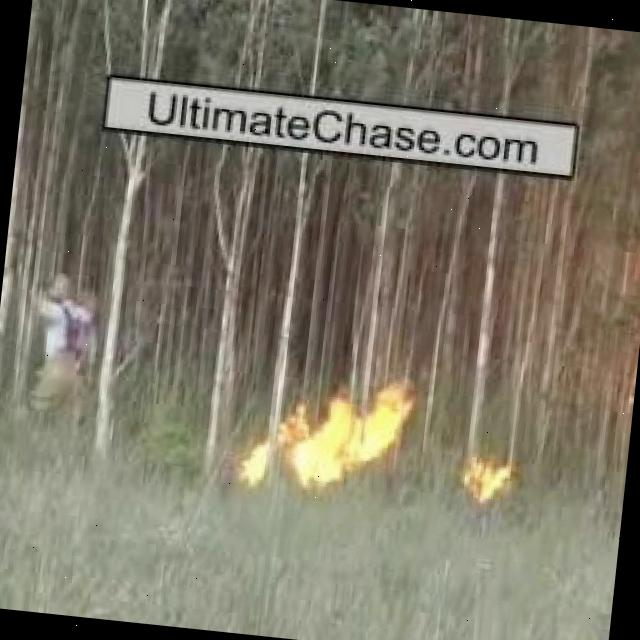fire: (284, 375, 418, 496), (459, 461, 528, 515), (235, 428, 278, 498)
